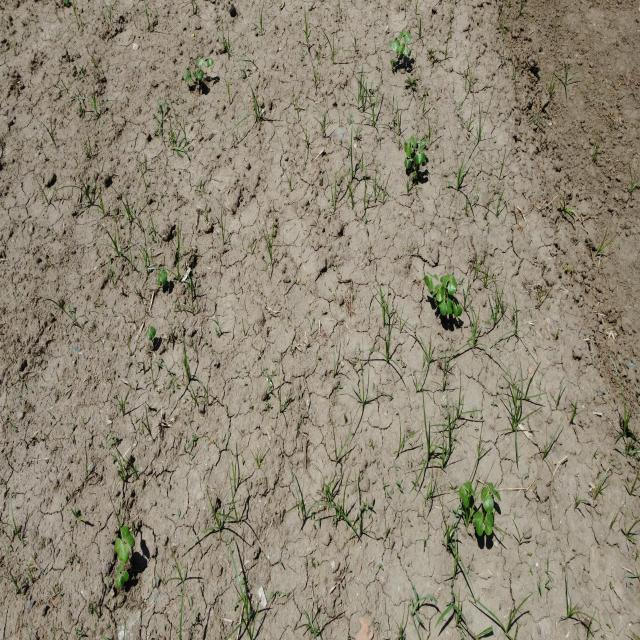seedling: (114, 538, 129, 563), (481, 487, 494, 513), (121, 525, 135, 547), (473, 510, 483, 537), (488, 482, 501, 501), (116, 571, 129, 588), (485, 511, 494, 535), (459, 486, 468, 508), (463, 481, 475, 497), (448, 276, 457, 294), (116, 563, 126, 579), (414, 151, 425, 164), (425, 276, 433, 293), (437, 286, 445, 302), (147, 327, 156, 340), (439, 301, 446, 317), (407, 136, 416, 148), (432, 284, 441, 296), (160, 271, 168, 284), (404, 32, 412, 45), (392, 39, 400, 51), (397, 43, 405, 55), (405, 142, 411, 158), (442, 274, 450, 286), (453, 302, 459, 317), (447, 297, 452, 313), (419, 139, 426, 150), (158, 271, 163, 285), (405, 159, 411, 169), (206, 59, 213, 67), (196, 57, 203, 65), (389, 38, 396, 46), (457, 304, 462, 315), (198, 71, 204, 80), (400, 31, 406, 40), (404, 49, 411, 56), (185, 73, 190, 82), (196, 70, 201, 78), (187, 71, 192, 76)
